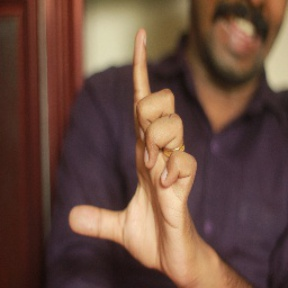L: (67, 29, 203, 262)
